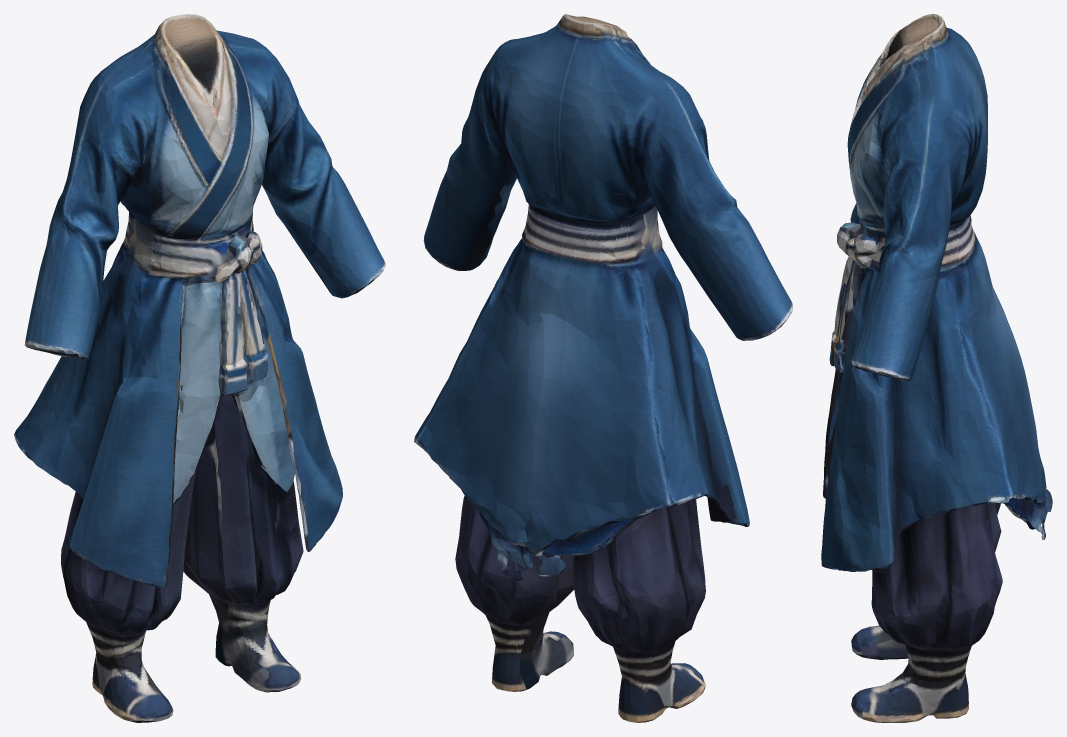
File: rensei_robe_source.glb
The picture shows the model from 3 angles, left to right: view 1: azimuth 30°, elevation 25°; view 2: azimuth 150°, elevation 25°; view 3: azimuth 270°, elevation 25°; orthographic projection. The views are drawn at different scales.
Parts seen in each view (by area): view 1: temp_mesh.ply; view 2: temp_mesh.ply; view 3: temp_mesh.ply.
Part boxes in pixels (bbox=[...]): temp_mesh.ply: bbox=[14, 14, 385, 722]; temp_mesh.ply: bbox=[414, 14, 792, 722]; temp_mesh.ply: bbox=[821, 14, 1052, 722].
Bounding box in the file's own units: 1.1 × 1.97 × 0.6279.
Materials: 1 (1 with a texture image).
